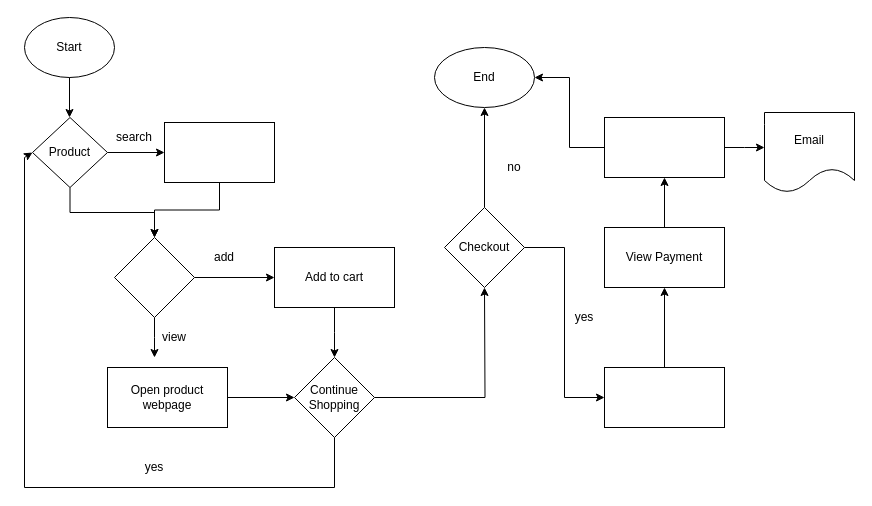
Some shapes in this 872 by 506 pixel diagram are drawn without their labels. Here are the shapes that lost their labels. From the top down, the centre of each, then its label:
the point at 219,152: Provide input
the point at 664,147: Order Confirmation
the point at 154,277: Product found
the point at 664,397: View Cart
